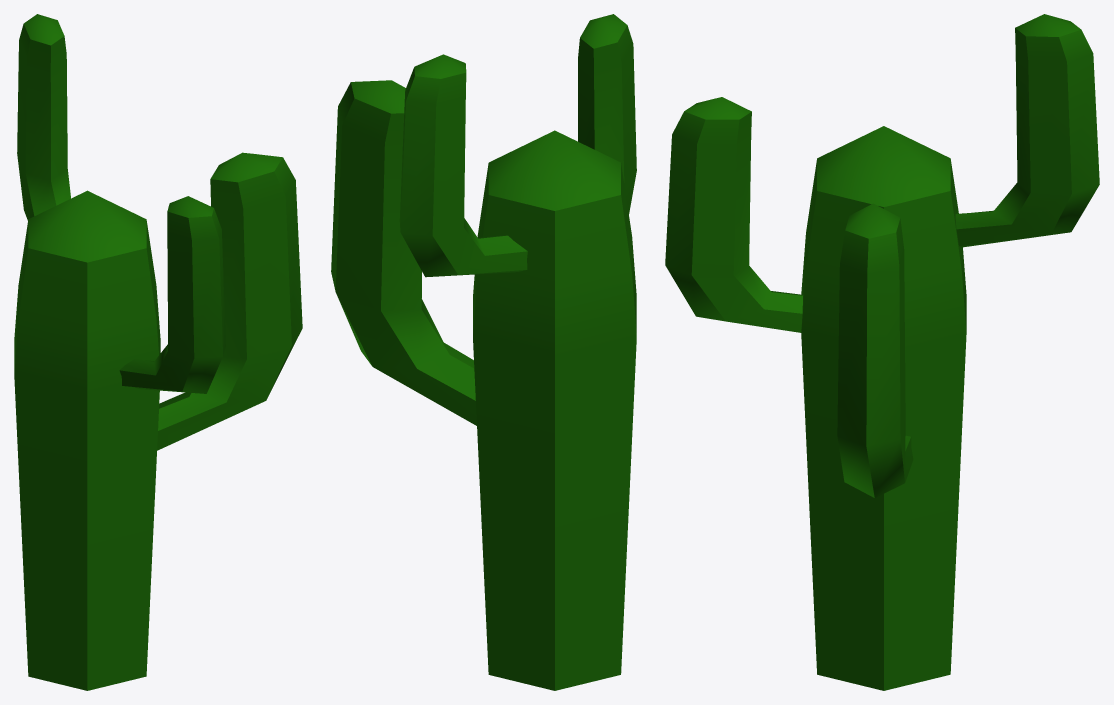
The model's file is Cactus 2.fbx.
3 views of the same model, side by side, from view 1: azimuth 30°, elevation 25°; view 2: azimuth 150°, elevation 25°; view 3: azimuth 270°, elevation 25° (orthographic). The views are drawn at different scales.
Parts seen in each view (by area): view 1: polySurface14; view 2: polySurface14; view 3: polySurface14.
Boxes of the visible parts, box(x1,y1,x2,y2) form: polySurface14: box(14, 14, 302, 690); polySurface14: box(331, 14, 636, 690); polySurface14: box(665, 14, 1099, 690).
Bounding box in the file's own units: 0.7622 × 1.52 × 0.9053.
